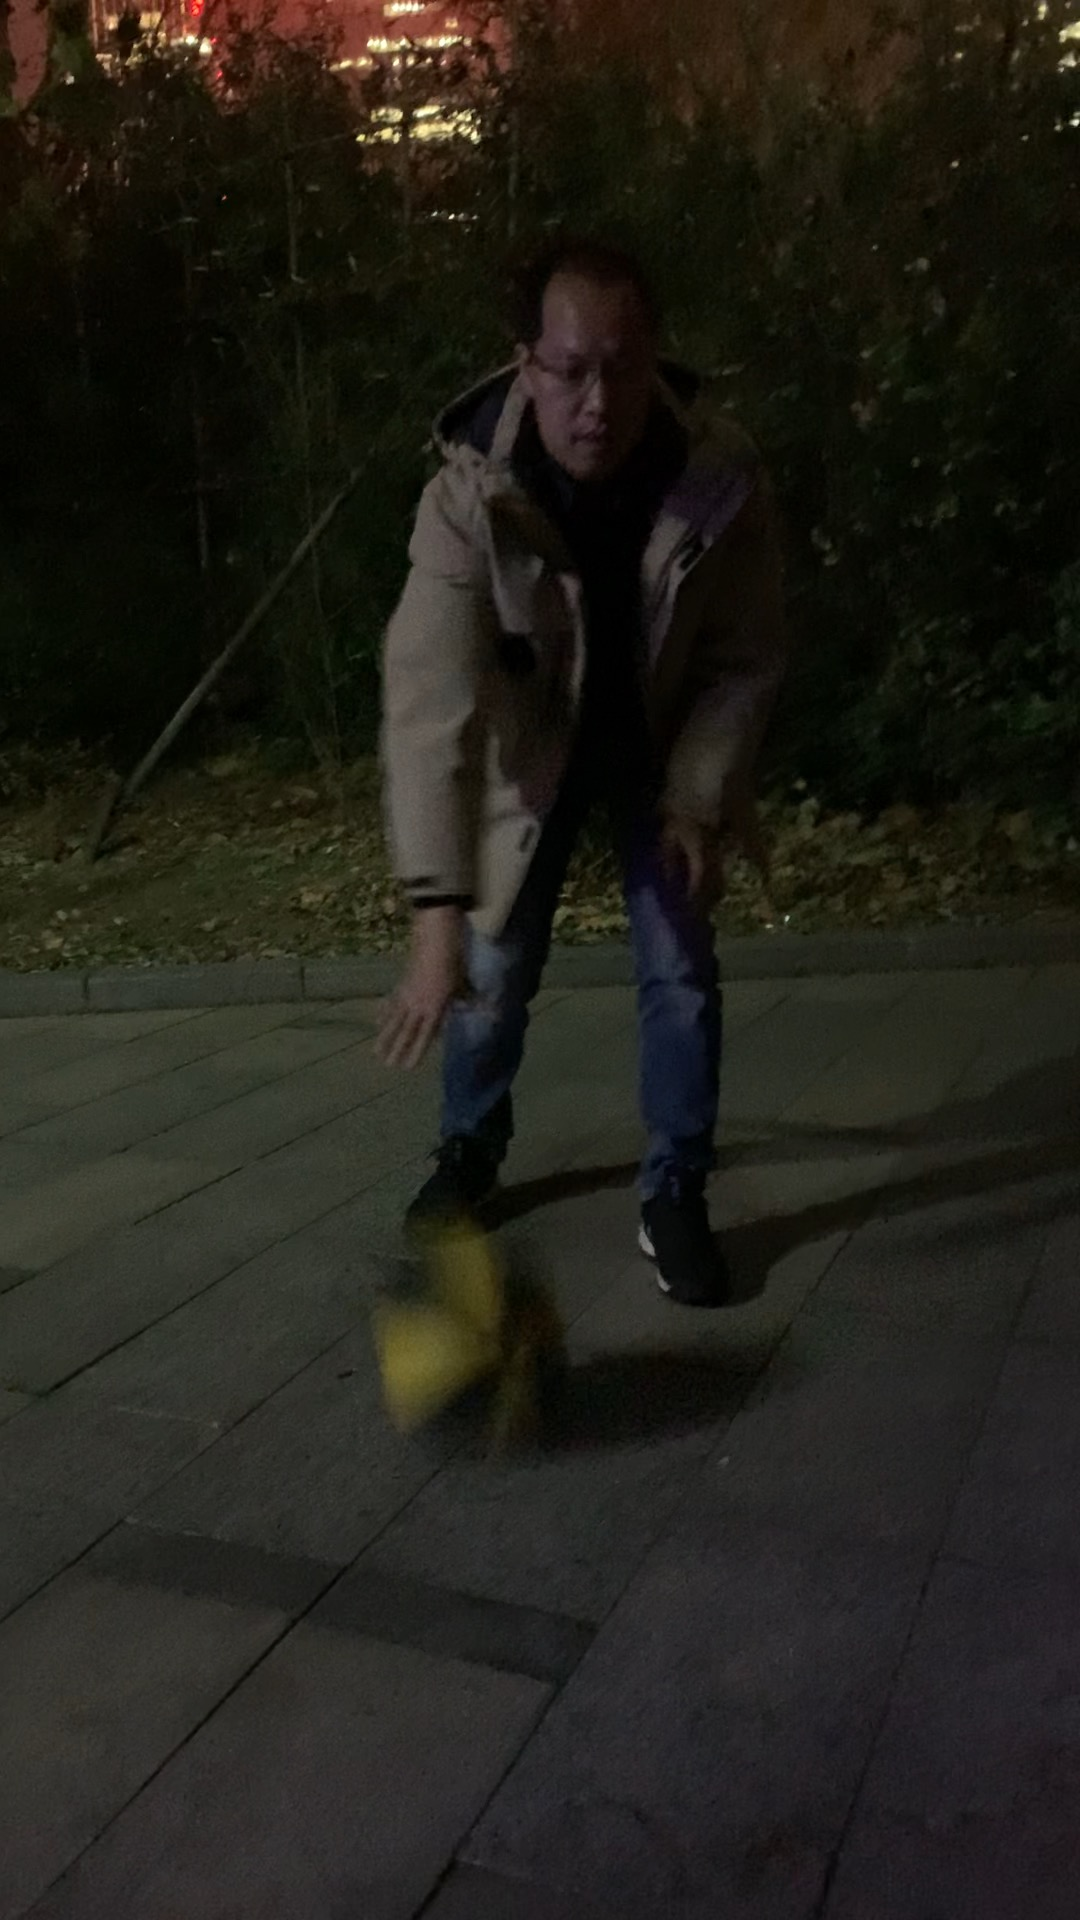ball: (367, 1236, 579, 1455)
